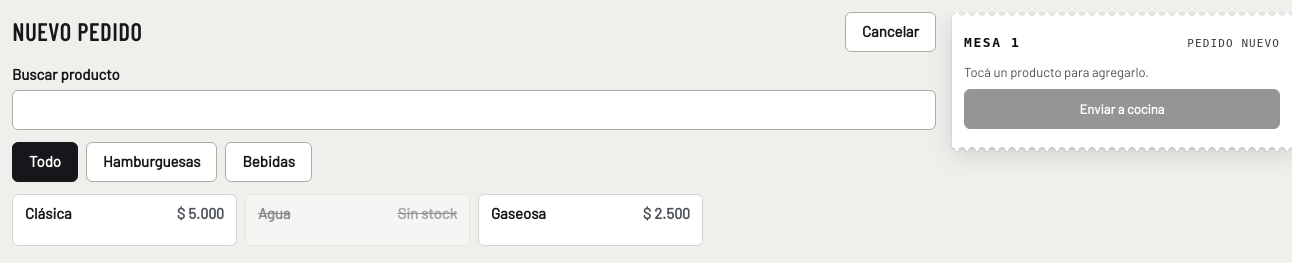
Test case: los productos sin stock no se pueden elegir y el buscador filtra
Expected: the button "Agua Sin stock" is disabled, [245,194,470,246]
Type "gase" into the search field labelled "Buscar producto".
click(474, 110); type("gase")  # box [12,90,936,130]
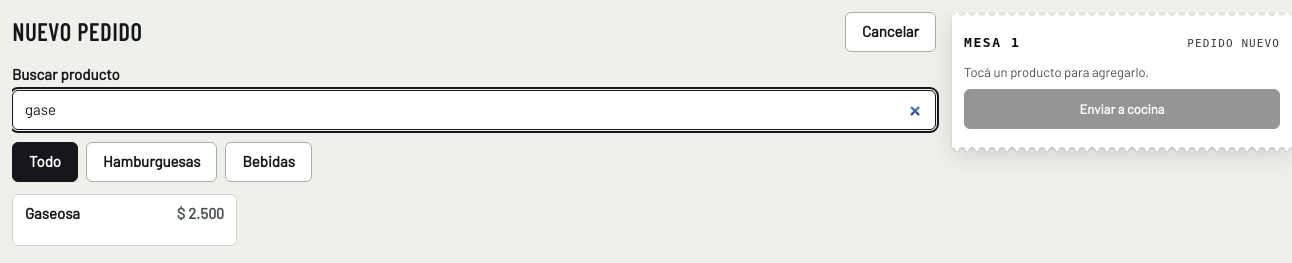
Expected: the button "Gaseosa $ 2.500" is shown, [12,194,237,246]
Now the button "Clásica" is gone
